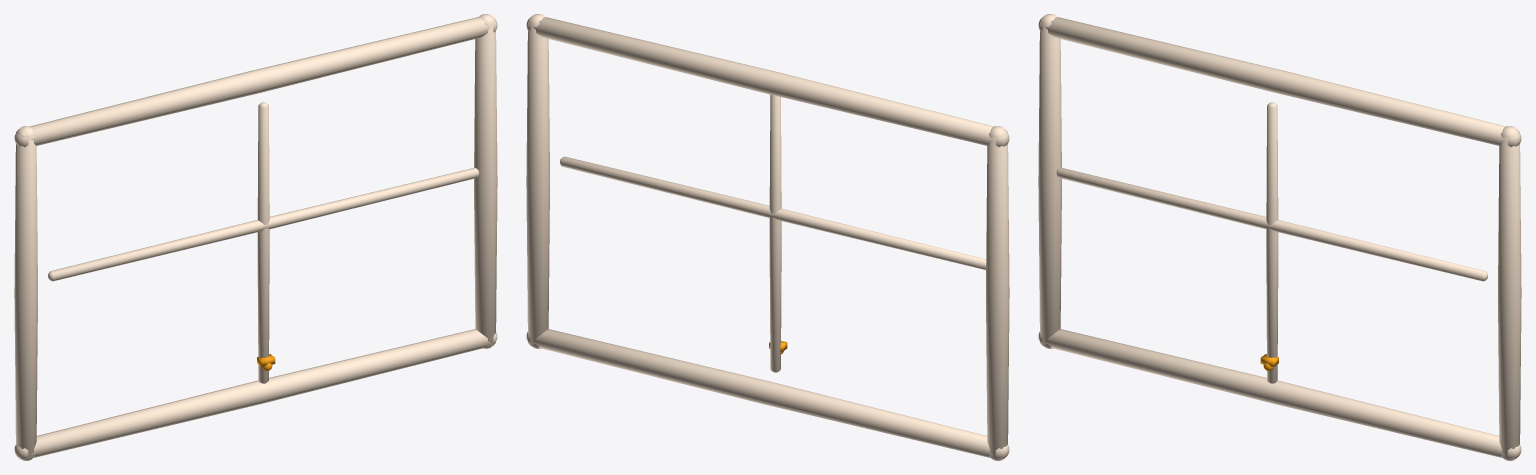
Rendered from fenster_rahmen_3.glb.
The picture shows the model from 3 angles, left to right: view 1: azimuth 30°, elevation 25°; view 2: azimuth 150°, elevation 25°; view 3: azimuth 330°, elevation 25°; orthographic projection.
Visible parts, largest first — view 1: FensterRahmen3; view 2: FensterRahmen3; view 3: FensterRahmen3.
Boxes of the visible parts, x1=… form: FensterRahmen3: x1=14, y1=14, x2=497, y2=460; FensterRahmen3: x1=526, y1=14, x2=1009, y2=460; FensterRahmen3: x1=1038, y1=14, x2=1521, y2=460.
Bounding box in the file's own units: 1.63 × 1.08 × 0.1135.
1 material, 1 textured.
